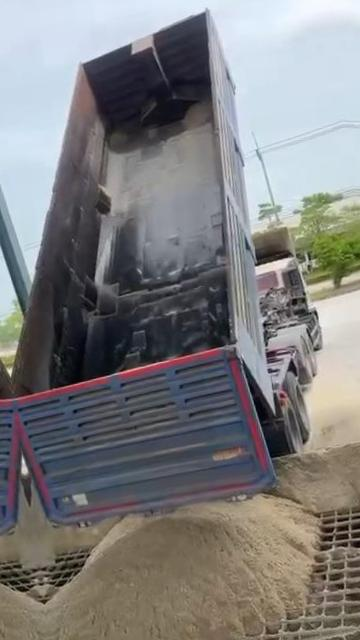sand: (45, 495, 316, 640), (29, 484, 117, 568), (275, 429, 360, 513), (311, 544, 360, 572)
